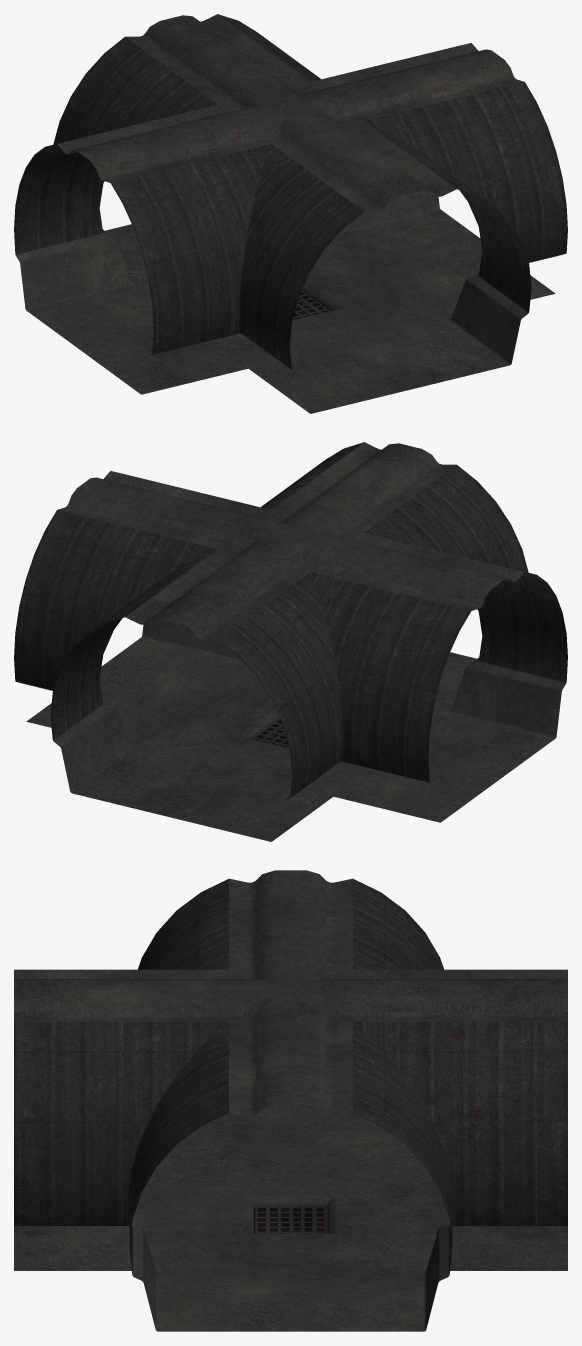
Rendered from tunnel_junction.fbx.
The picture shows the model from 3 angles, top to bottom: view 1: azimuth 30°, elevation 25°; view 2: azimuth 150°, elevation 25°; view 3: azimuth 270°, elevation 25°; orthographic projection. The views are drawn at different scales.
Parts seen in each view (by area): view 1: tunnel_junction; view 2: tunnel_junction; view 3: tunnel_junction.
Part boxes in pixels (x1,y1,x2,y2): tunnel_junction: (14, 14, 567, 413); tunnel_junction: (14, 442, 567, 841); tunnel_junction: (14, 870, 567, 1331).
Size of the model in its own units: 6 by 6 by 2.82.
